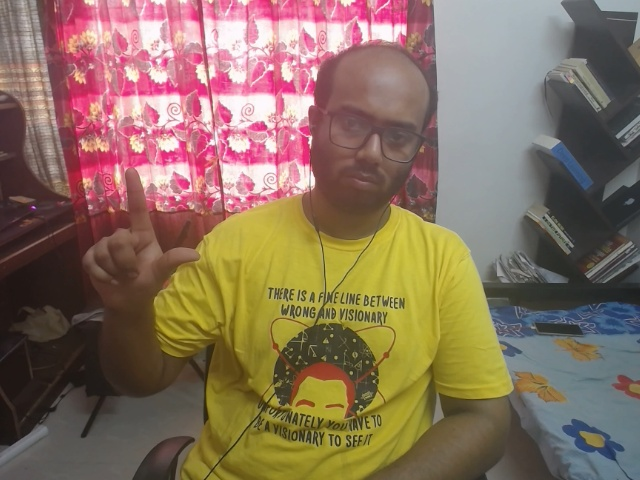seven: (47, 142, 215, 317)
